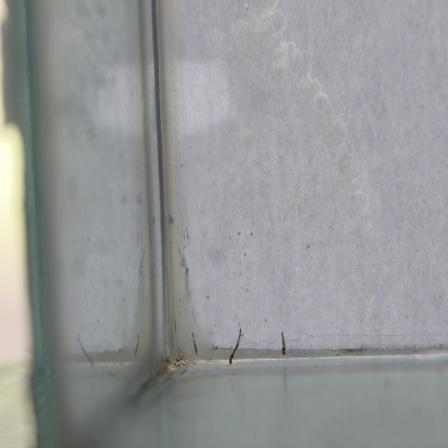Jentik-Nyamuk: (224, 327, 247, 366), (276, 328, 291, 358)
